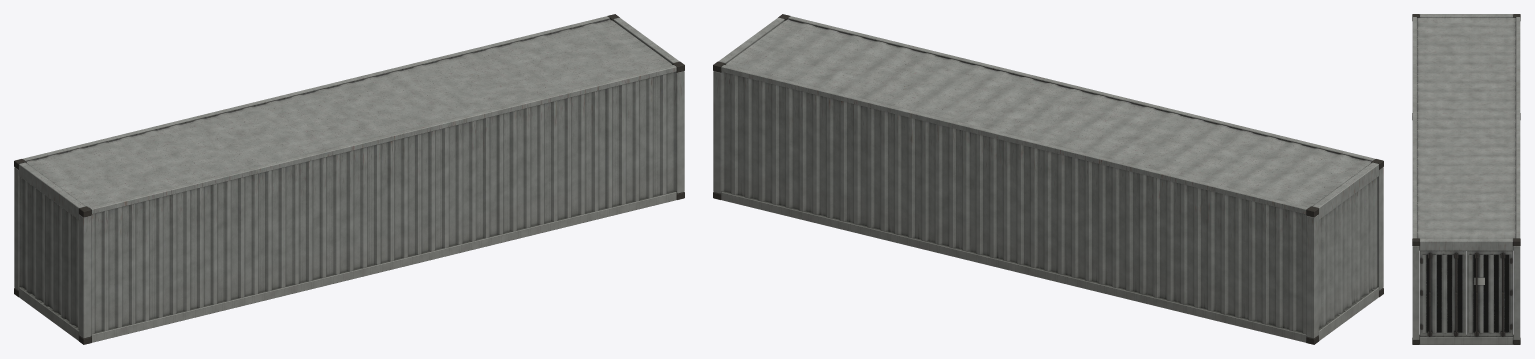
File: container40_grey.glb
3 renders of one model, left to right at view 1: azimuth 30°, elevation 25°; view 2: azimuth 150°, elevation 25°; view 3: azimuth 270°, elevation 25°, orthographic. The views are drawn at different scales.
Parts seen in each view (by area): view 1: container40_grey; view 2: container40_grey; view 3: container40_grey.
Part boxes in pixels (bbox=[...]): container40_grey: bbox=[14, 14, 684, 344]; container40_grey: bbox=[713, 14, 1383, 344]; container40_grey: bbox=[1412, 14, 1520, 344].
Size of the model in its own units: 12.31 by 2.59 by 2.45.
1 material, 1 textured.
